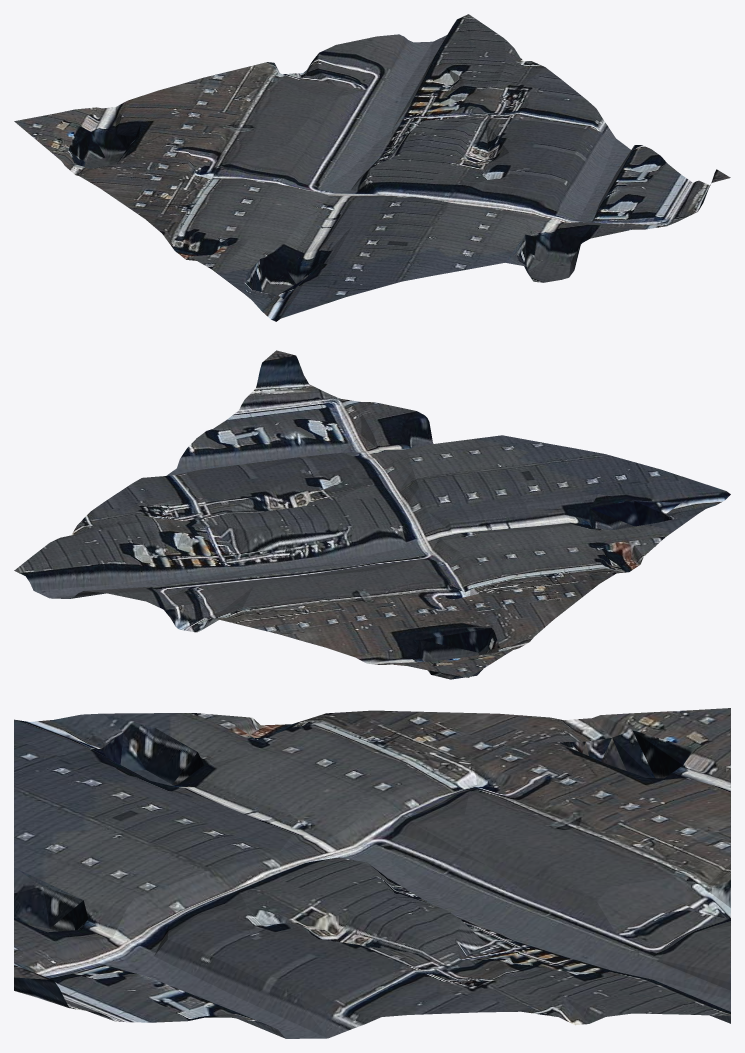
The model's file is map_15_8182_13783.dae.
3 views of the same model, one above another, from view 1: azimuth 30°, elevation 25°; view 2: azimuth 150°, elevation 25°; view 3: azimuth 270°, elevation 25° (orthographic). The views are drawn at different scales.
Parts seen in each view (by area): view 1: Ter0; view 2: Ter0; view 3: Ter0.
Part boxes in pixels (left/top/right/bottom): Ter0: left=14, top=14, right=730, bottom=321; Ter0: left=14, top=350, right=730, bottom=679; Ter0: left=14, top=708, right=730, bottom=1038.
Bounding box in the file's own units: 63.88 × 63.88 × 8.15.
3 materials, 3 textured.
